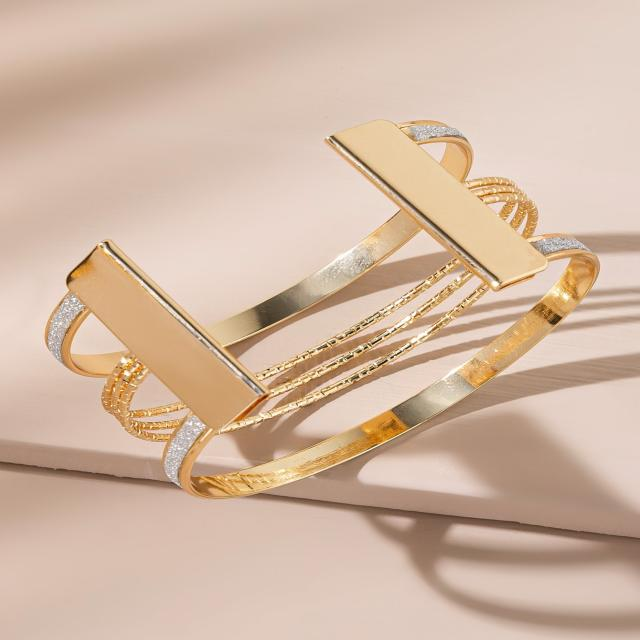bracelet: (0, 40, 640, 523)
